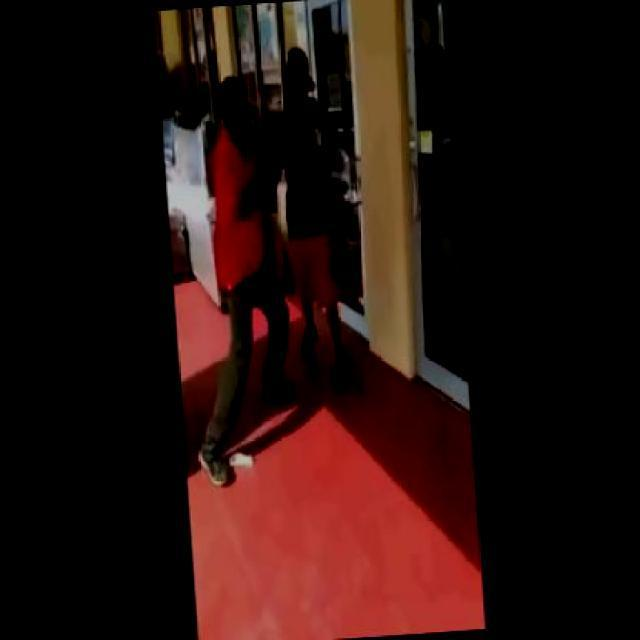fight: (204, 44, 353, 407)
